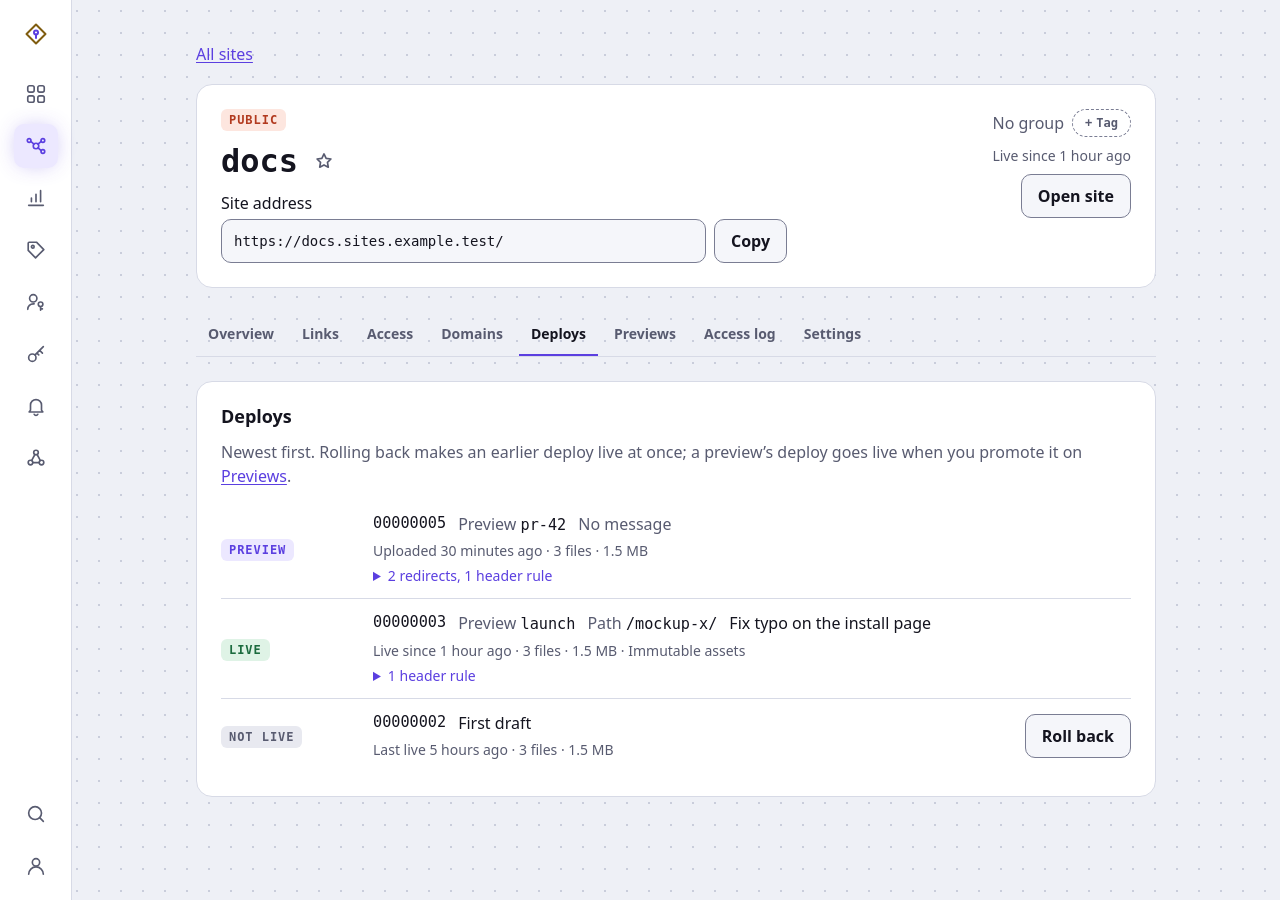
Test: site detail › marks preview deploys and shows each deploy’s rules read-only
The width and height of the screenshot is (1280, 900).
Expected: the 2nd text "Preview" is shown, [221,540,294,562]
Click the heading "2 redirects, 1 header rule" at [463, 576], box [373,565,552,586]
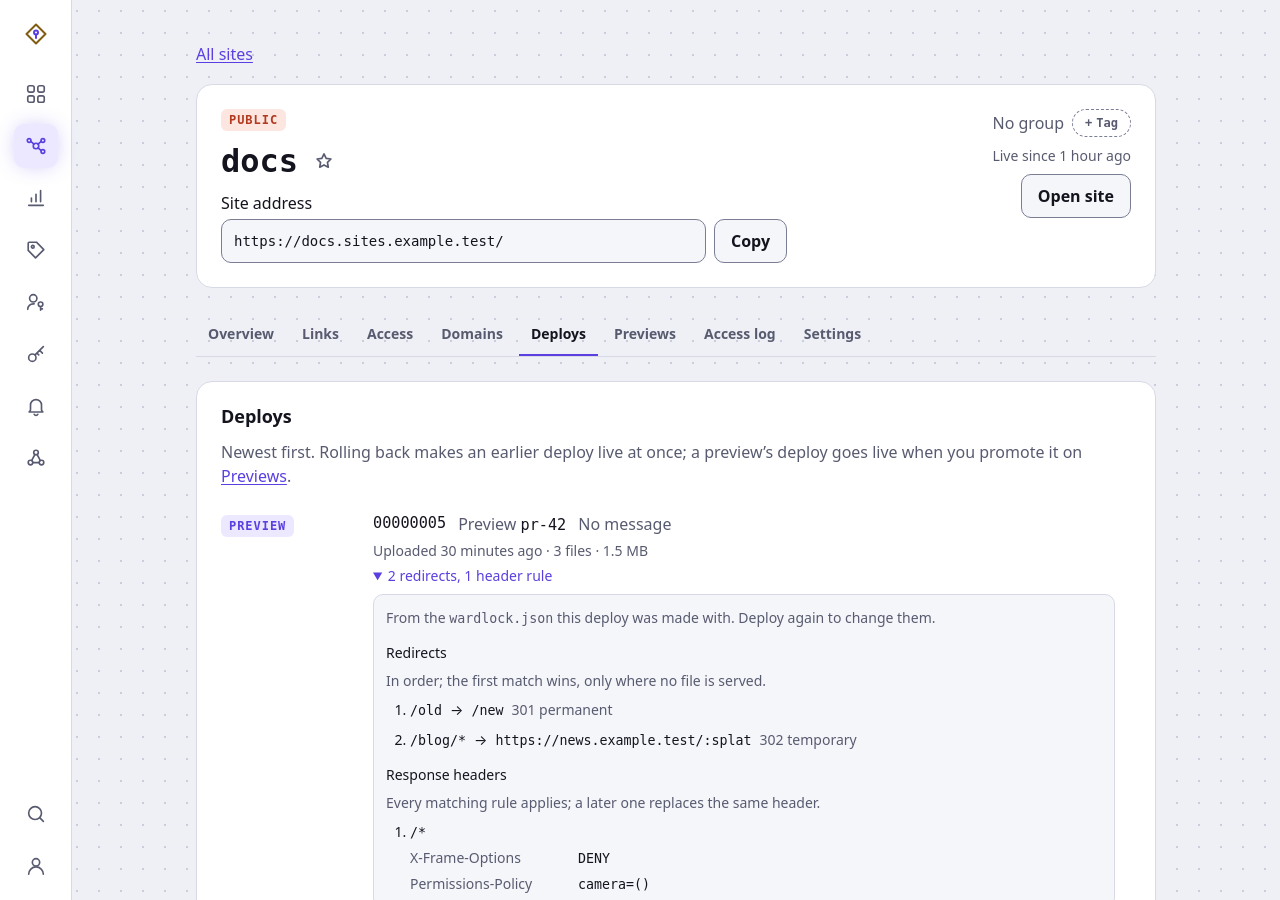
Now the list items read "/old→to/new301 permanent", "/blog/*→tohttps://news.example.test/:splat302 temporary", in this order, box [410,700,613,719]; [410,730,857,749]
Now the list named "Header rules of deploy 00000005" shows "/*", box [410,825,426,840]
